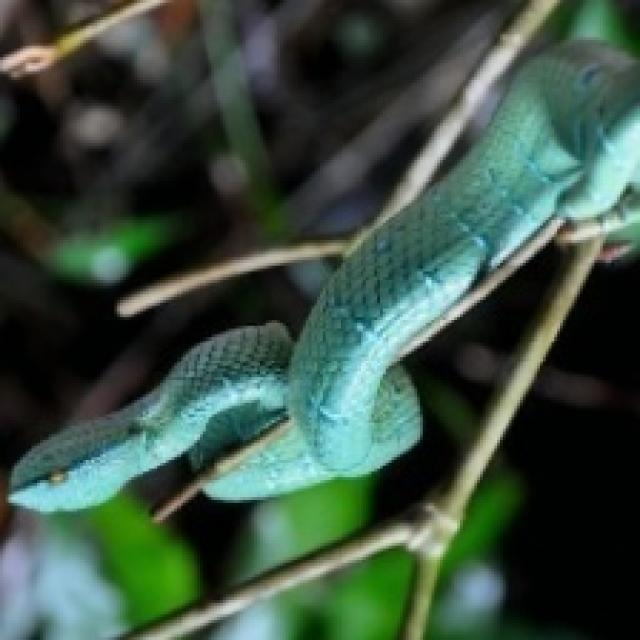north ph temple pitviper: (11, 40, 637, 509)
